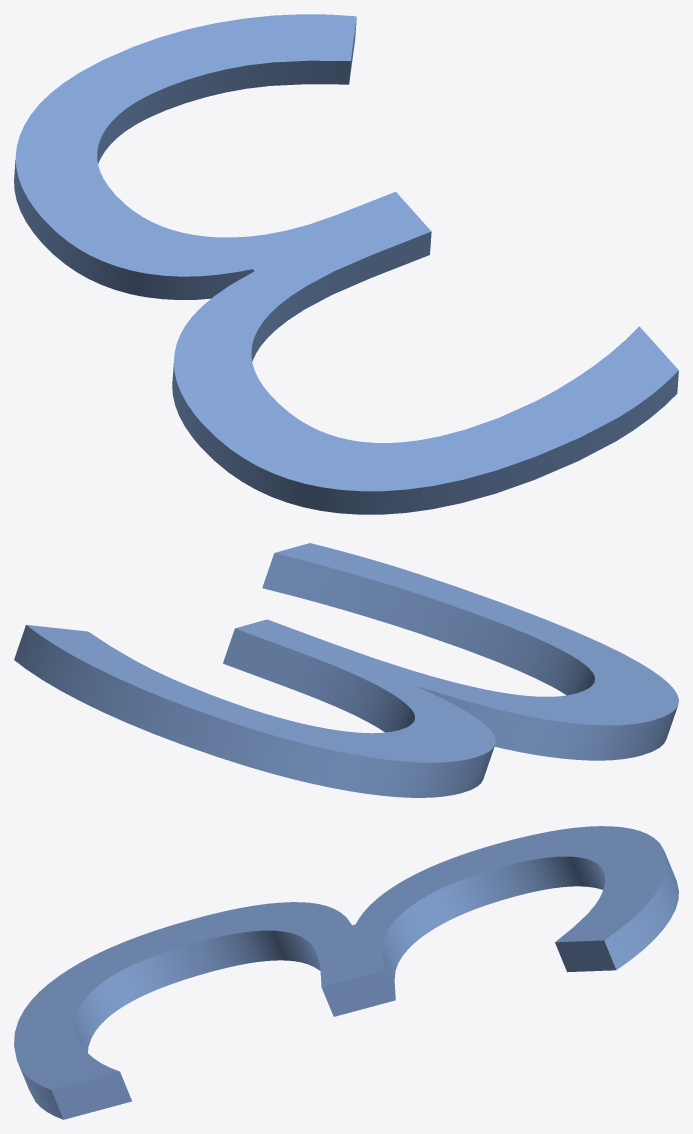
Rendered from New_Number_3.gltf.
3 views of the same model, one above another, from view 1: azimuth 30°, elevation 25°; view 2: azimuth 150°, elevation 25°; view 3: azimuth 270°, elevation 25° (orthographic). The views are drawn at different scales.
Visible parts, largest first — view 1: Part 606; view 2: Part 606; view 3: Part 606.
Part boxes in pixels (bbox=[...]): Part 606: bbox=[14, 14, 678, 514]; Part 606: bbox=[14, 543, 678, 797]; Part 606: bbox=[14, 826, 678, 1119].
Bounding box in the file's own units: 0.00337 × 0.00175 × 0.00511.
